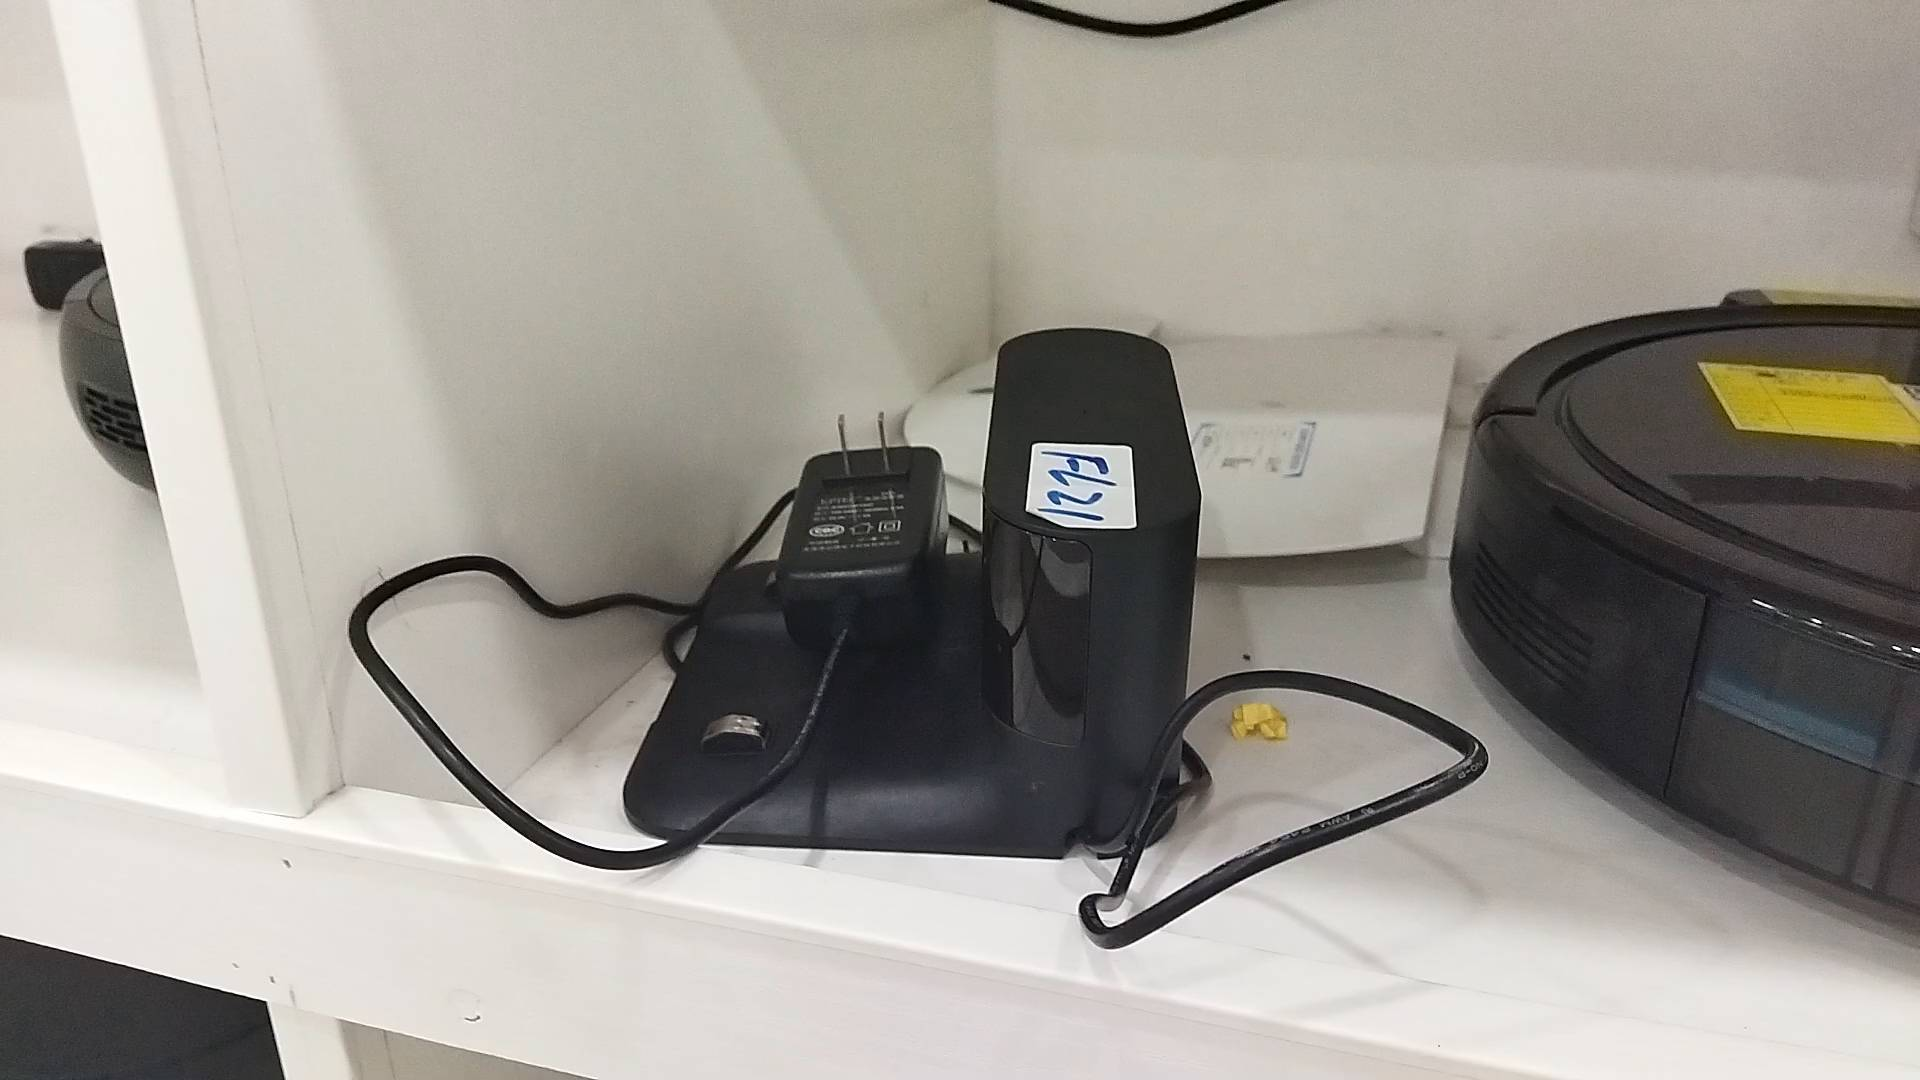recharge seat: (622, 326, 1196, 860)
